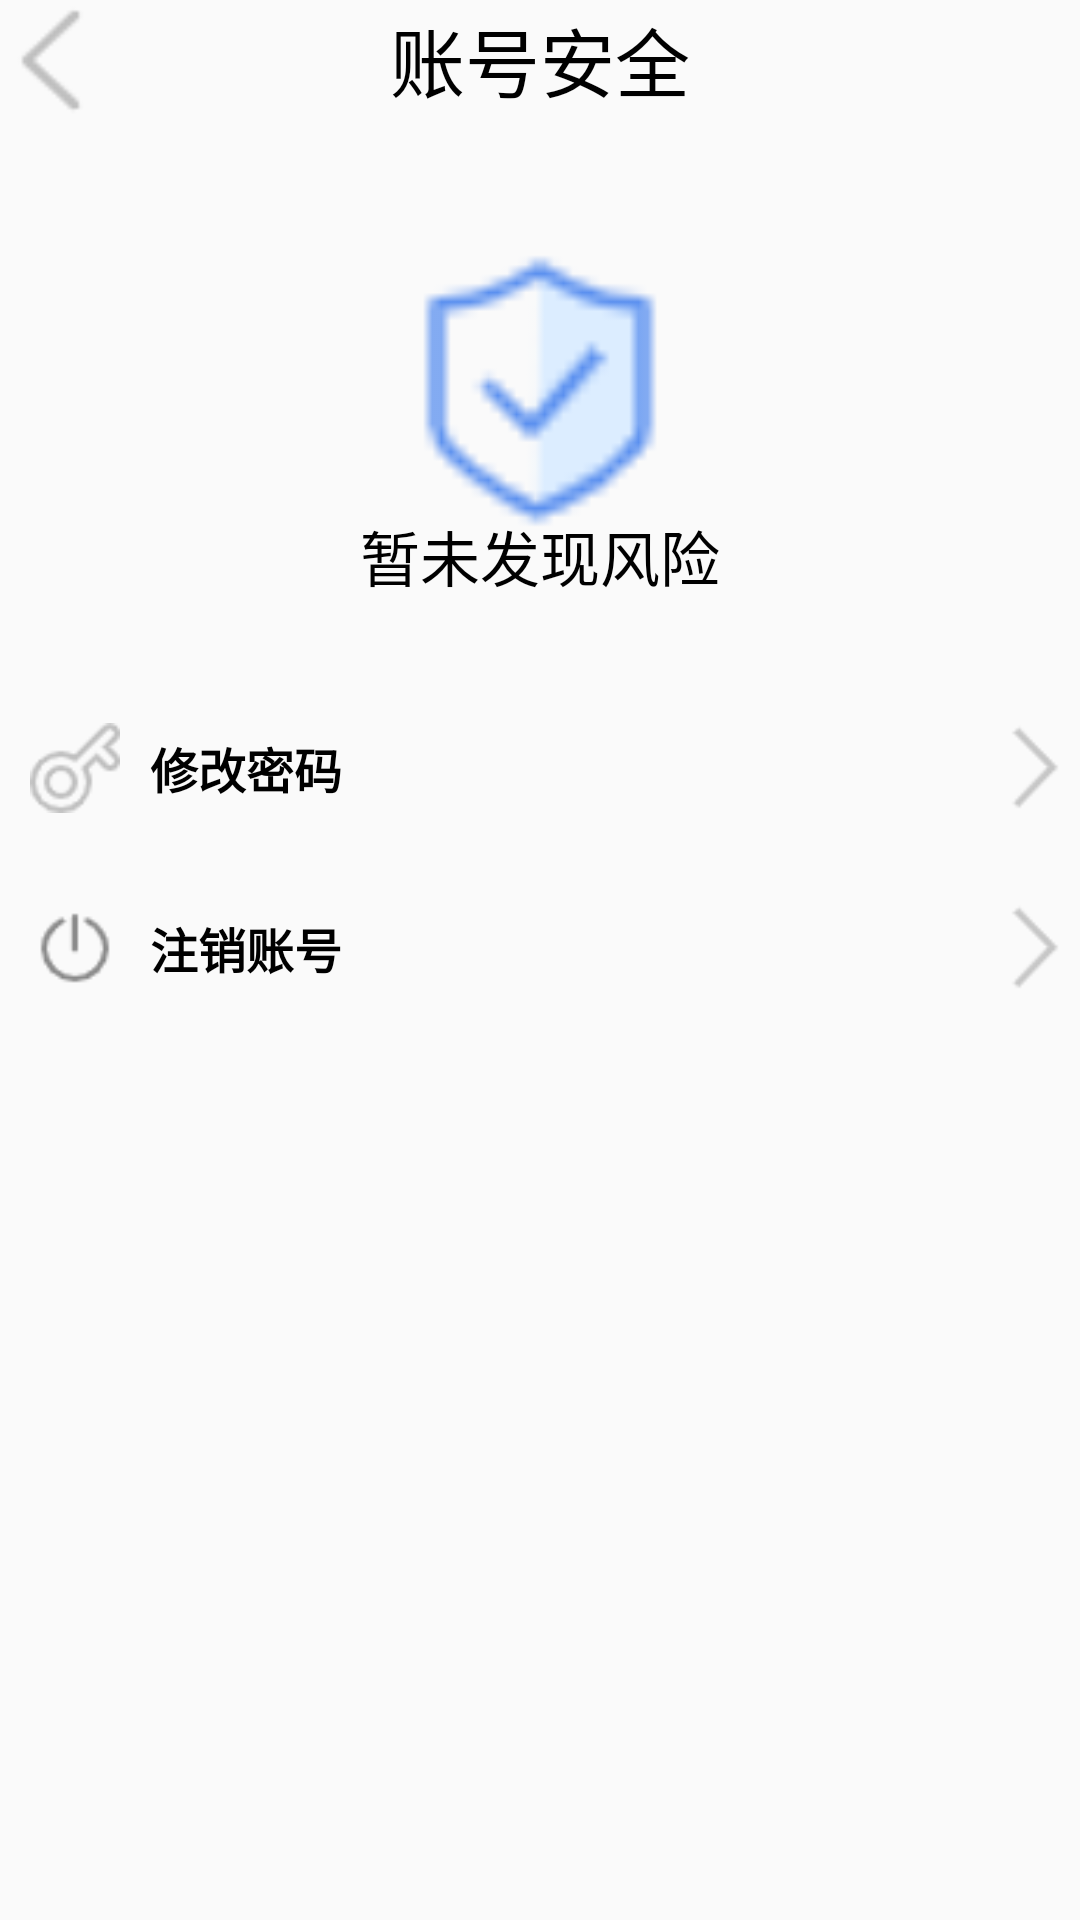

Named icons in this screenshot (1080 × 1920) and their bounding boxes, bbox(x1, y1, x2, y2):
back: bbox(22, 11, 79, 109)
revise password: bbox(30, 723, 120, 813)
safe: bbox(425, 258, 655, 541)
